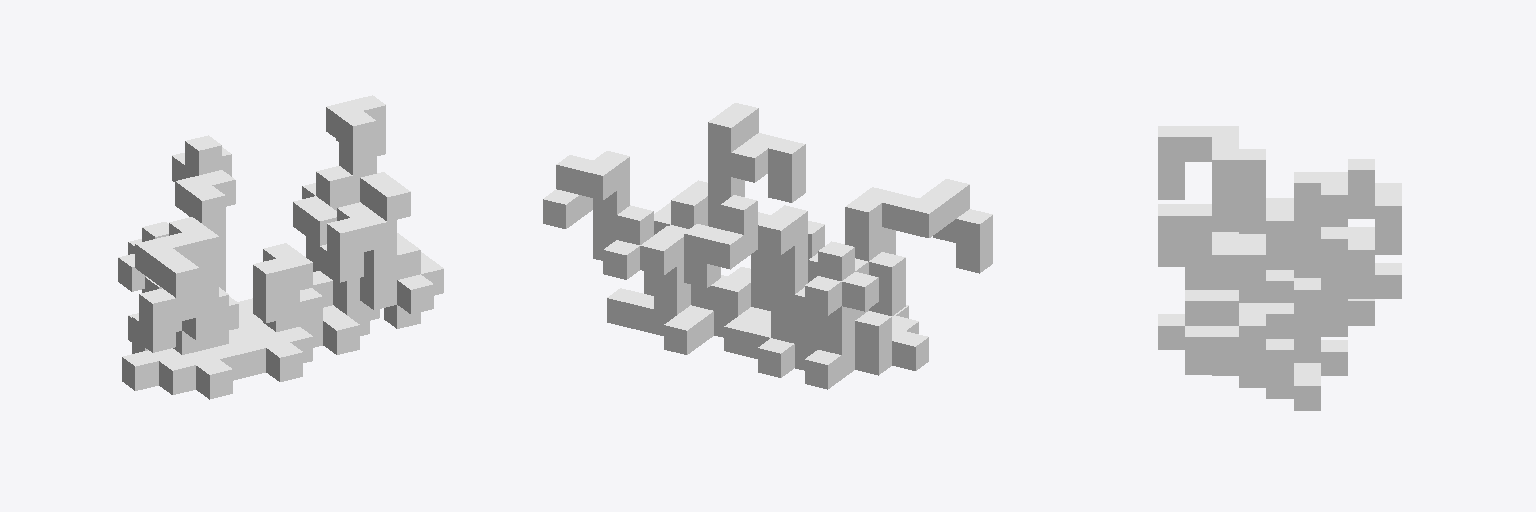
Rendered from WaterPlantCoral2.obj.
3 views of the same model, side by side, from view 1: azimuth 30°, elevation 25°; view 2: azimuth 150°, elevation 25°; view 3: azimuth 270°, elevation 25° (orthographic).
Visible parts, largest first — view 1: object 1; view 2: object 1; view 3: object 1.
Part boxes in pixels (bbox=[...]): object 1: bbox=[118, 95, 443, 399]; object 1: bbox=[543, 103, 992, 389]; object 1: bbox=[1158, 126, 1401, 410].
Size of the model in its own units: 1.4 by 0.7 by 0.9.